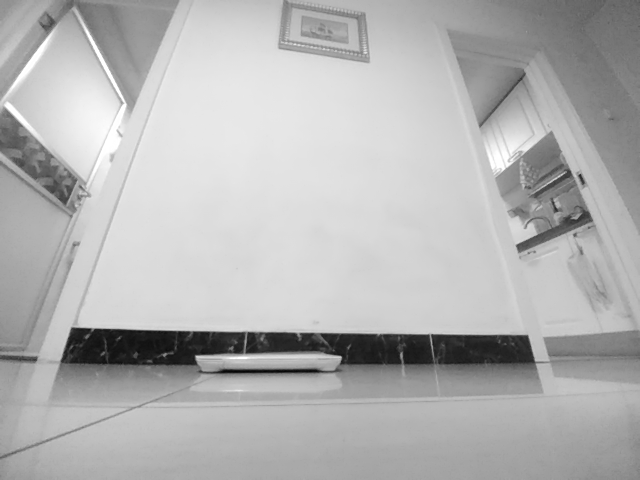scale: (194, 351, 344, 375)
